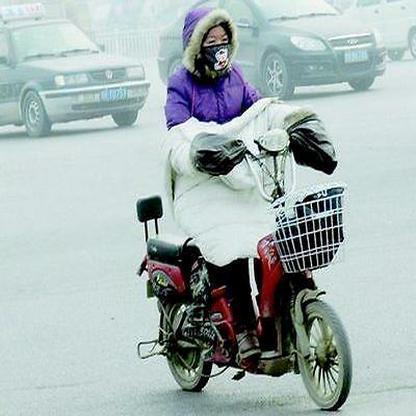target: (137, 6, 357, 410)
